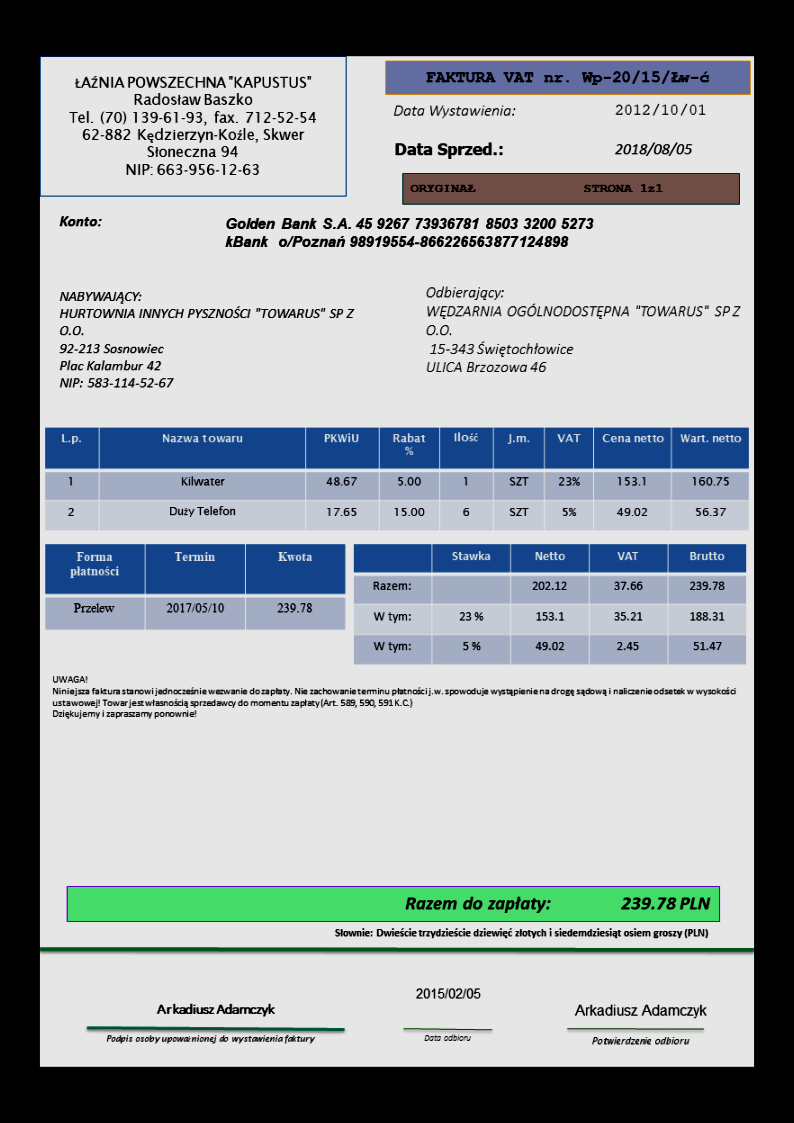Table: (43, 426, 750, 533), (352, 542, 747, 665), (42, 542, 347, 631)
TextBox: (50, 673, 737, 720), (57, 287, 357, 390), (423, 284, 742, 376), (67, 72, 319, 178), (222, 215, 596, 251), (402, 893, 713, 914), (424, 67, 713, 87), (332, 925, 708, 940), (407, 179, 664, 197), (104, 1031, 318, 1046), (572, 1002, 709, 1021), (392, 139, 505, 161), (392, 102, 518, 121), (155, 1001, 277, 1018), (613, 102, 709, 120), (589, 1034, 690, 1047), (613, 141, 695, 157), (413, 985, 482, 1001), (58, 213, 102, 230), (421, 1032, 471, 1043)
